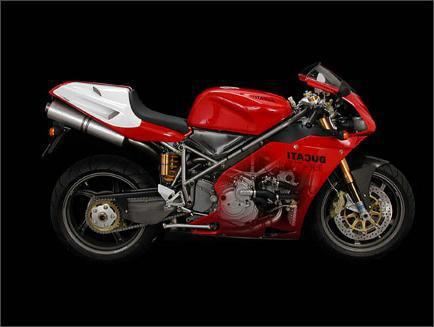motorcycle: (34, 58, 434, 270)
